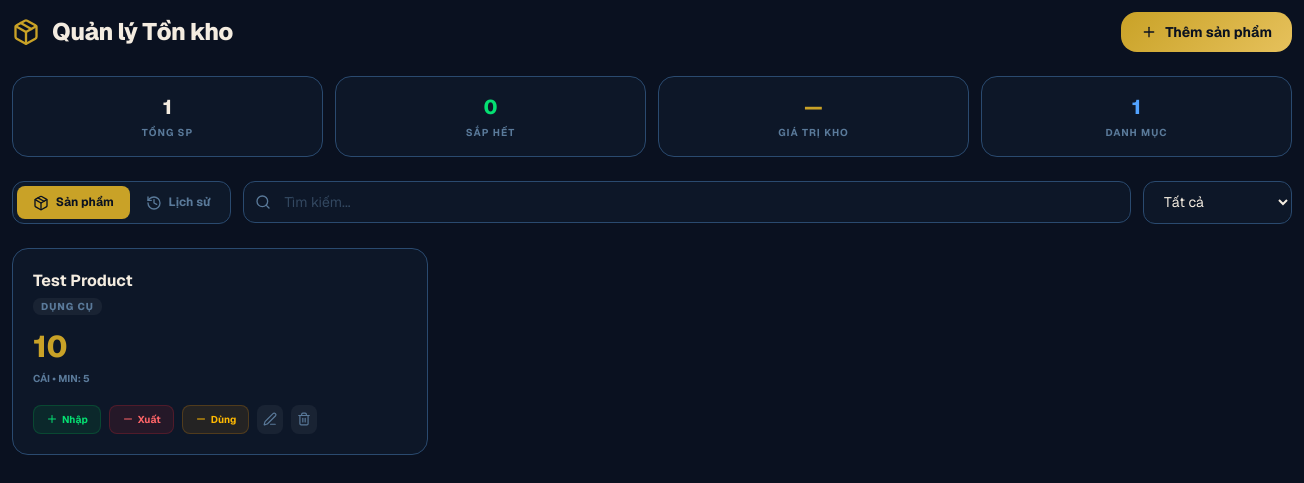
InventoryManagement Component › filters items by search query
Expected: the heading "Test Product" is shown, [33,269,132,293]
Type "None" into the field with placeholder "Tìm kiếm...". click: [687, 202]
box: [243,181,1131,223]
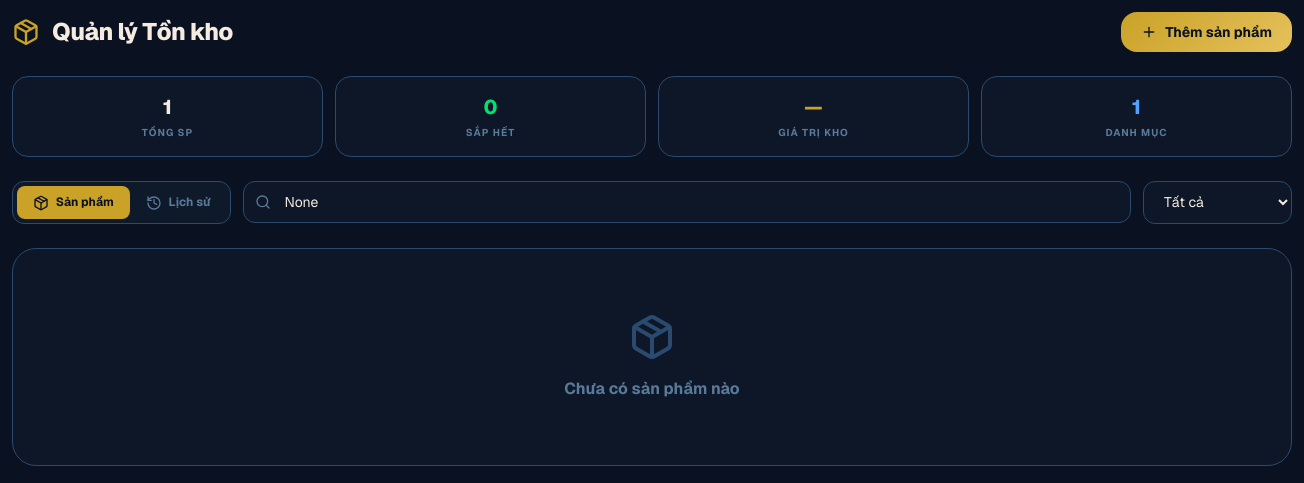
Now the heading "Test Product" is gone
